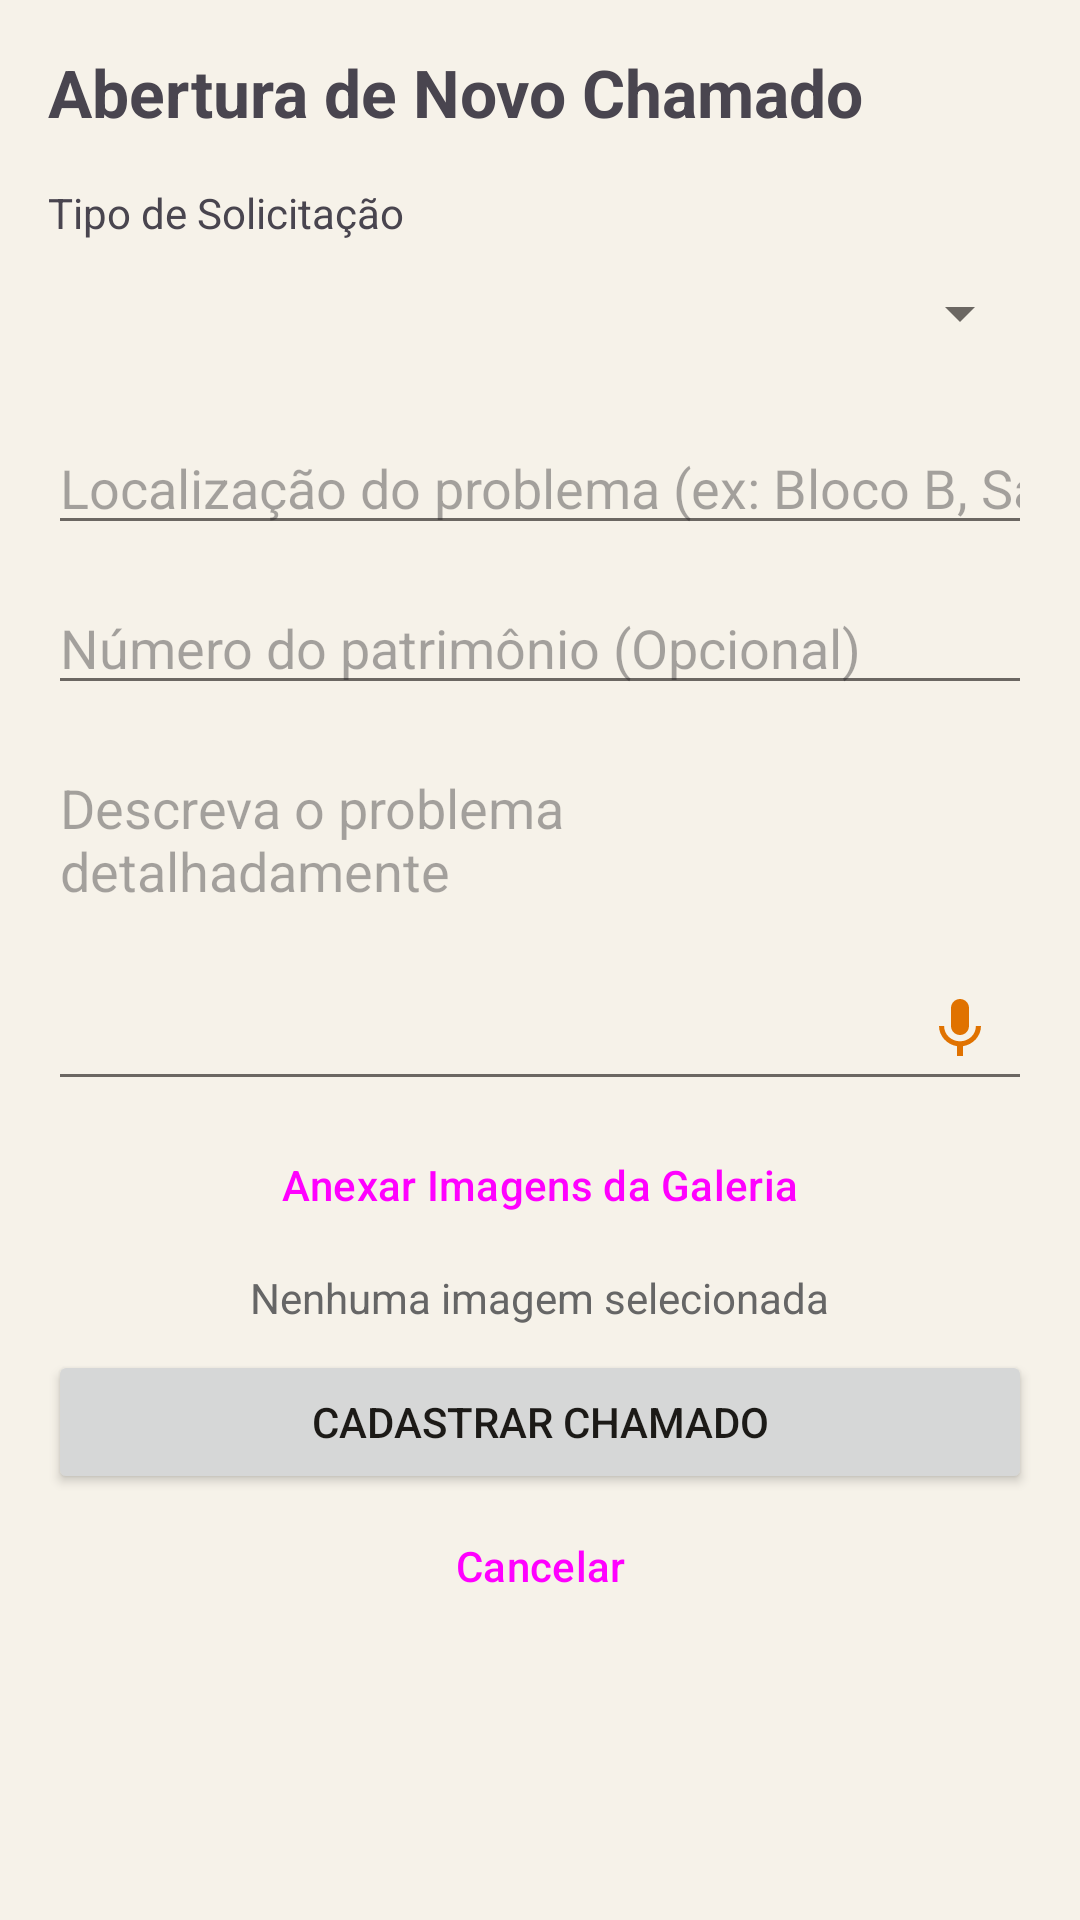

Icons on this 1080px×1920px Android screen, each with the point to tap as [x,y]:
Ditar a descrição por voz: [960,1027]
